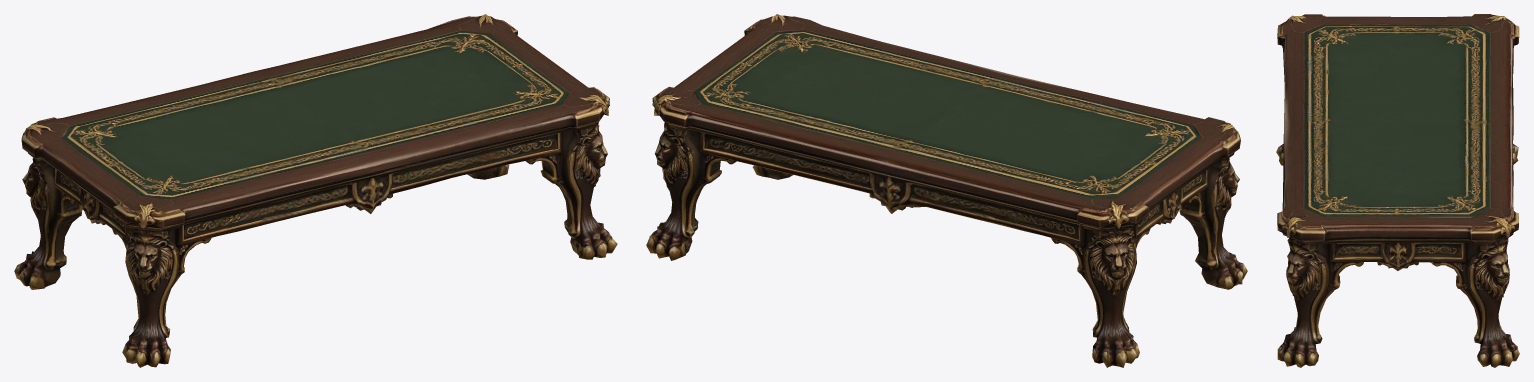
The model's file is table.glb.
3 views of the same model, side by side, from view 1: azimuth 30°, elevation 25°; view 2: azimuth 150°, elevation 25°; view 3: azimuth 270°, elevation 25° (orthographic). The views are drawn at different scales.
Visible parts, largest first — view 1: tripo_node_130ca270-38e7-4382-b058-2499bb2547c3; view 2: tripo_node_130ca270-38e7-4382-b058-2499bb2547c3; view 3: tripo_node_130ca270-38e7-4382-b058-2499bb2547c3.
Part boxes in pixels (x1,y1,x2,y2): tripo_node_130ca270-38e7-4382-b058-2499bb2547c3: [14, 14, 617, 367]; tripo_node_130ca270-38e7-4382-b058-2499bb2547c3: [646, 14, 1247, 367]; tripo_node_130ca270-38e7-4382-b058-2499bb2547c3: [1276, 14, 1519, 367].
Bounding box in the file's own units: 0.9817 × 0.3014 × 0.4622.
Materials: 1 (1 with a texture image).
